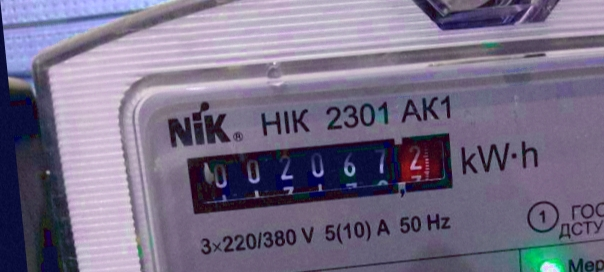0: (208, 160, 229, 191), (242, 155, 262, 185), (305, 148, 325, 178)
2: (403, 141, 424, 172), (275, 151, 295, 182)
6: (338, 148, 359, 179)
7: (371, 145, 390, 176)
screen: (171, 117, 469, 228)
